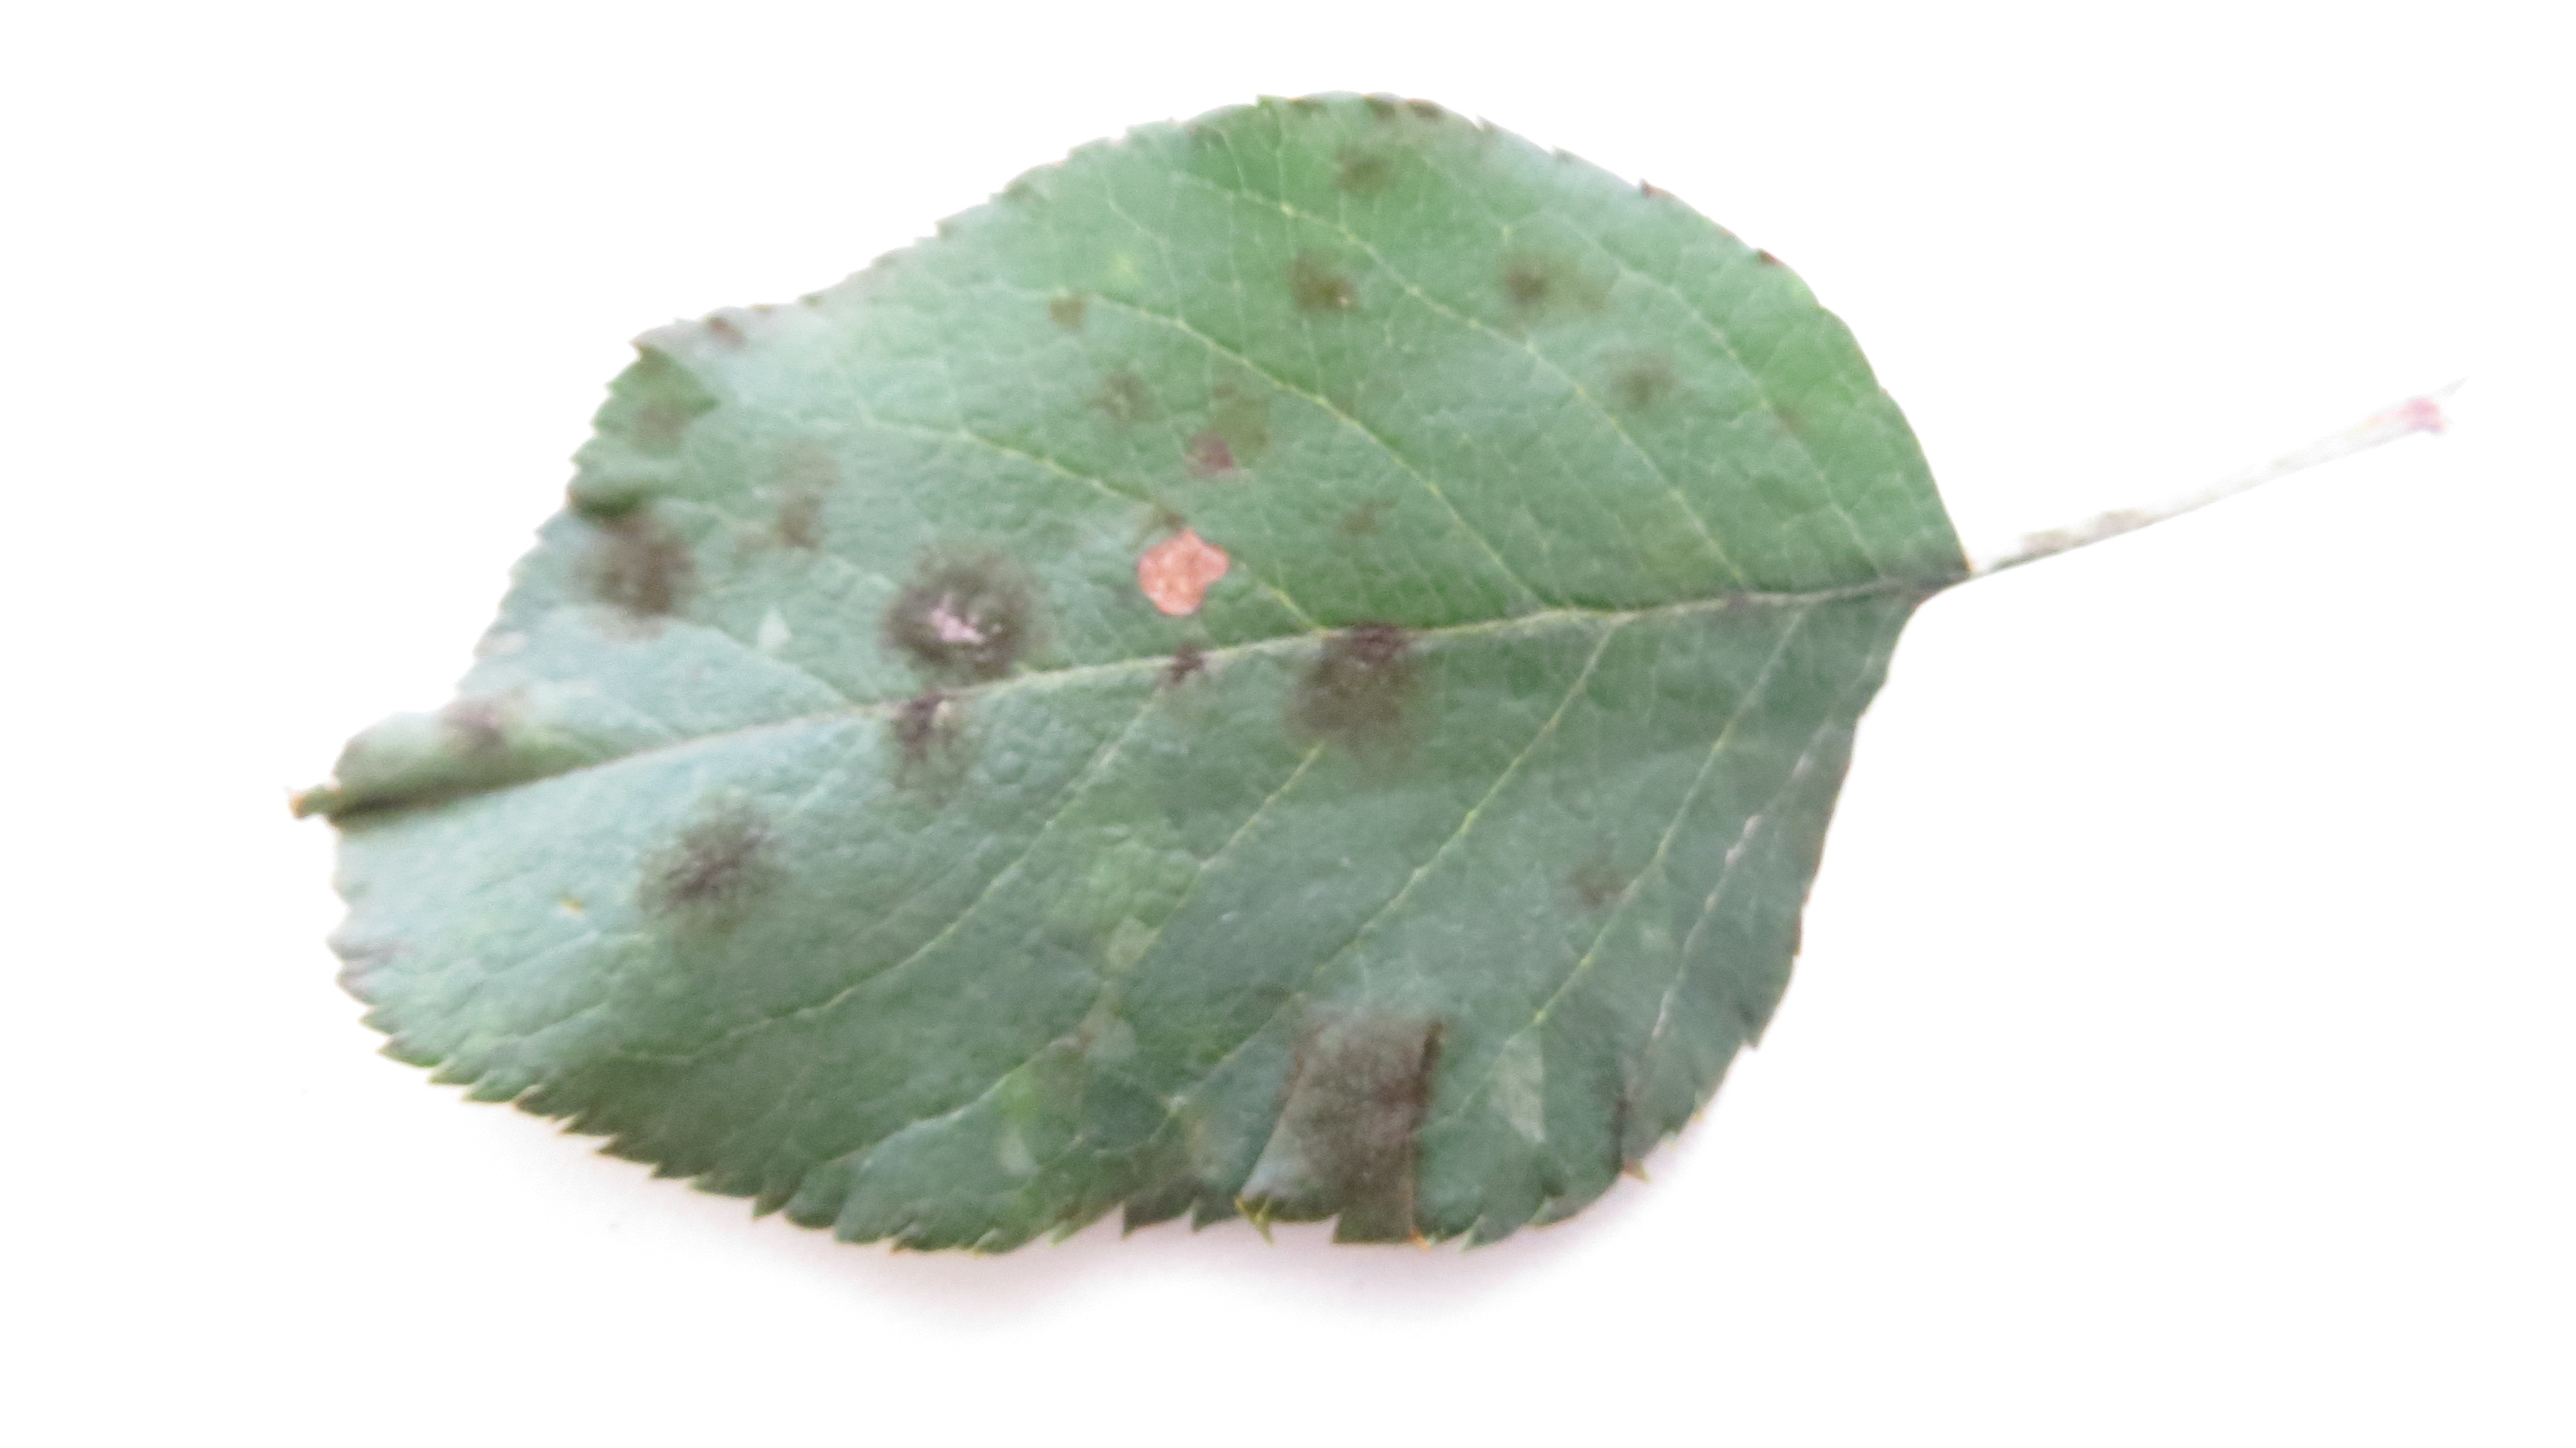sarna: (1265, 968, 1442, 1243), (1288, 612, 1435, 779), (579, 476, 704, 655), (874, 547, 1039, 683), (646, 789, 789, 931), (724, 428, 856, 577), (1169, 372, 1272, 496), (872, 674, 985, 782), (1134, 506, 1231, 627), (1548, 814, 1640, 928), (1281, 237, 1375, 335), (1486, 235, 1576, 333), (1311, 133, 1426, 209), (439, 687, 541, 772), (1580, 336, 1675, 427), (1042, 267, 1118, 356), (1093, 352, 1175, 434), (1152, 632, 1212, 701)
